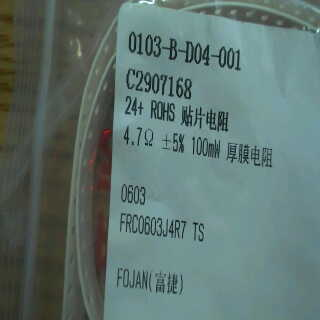4.7R: (119, 124, 159, 149)
